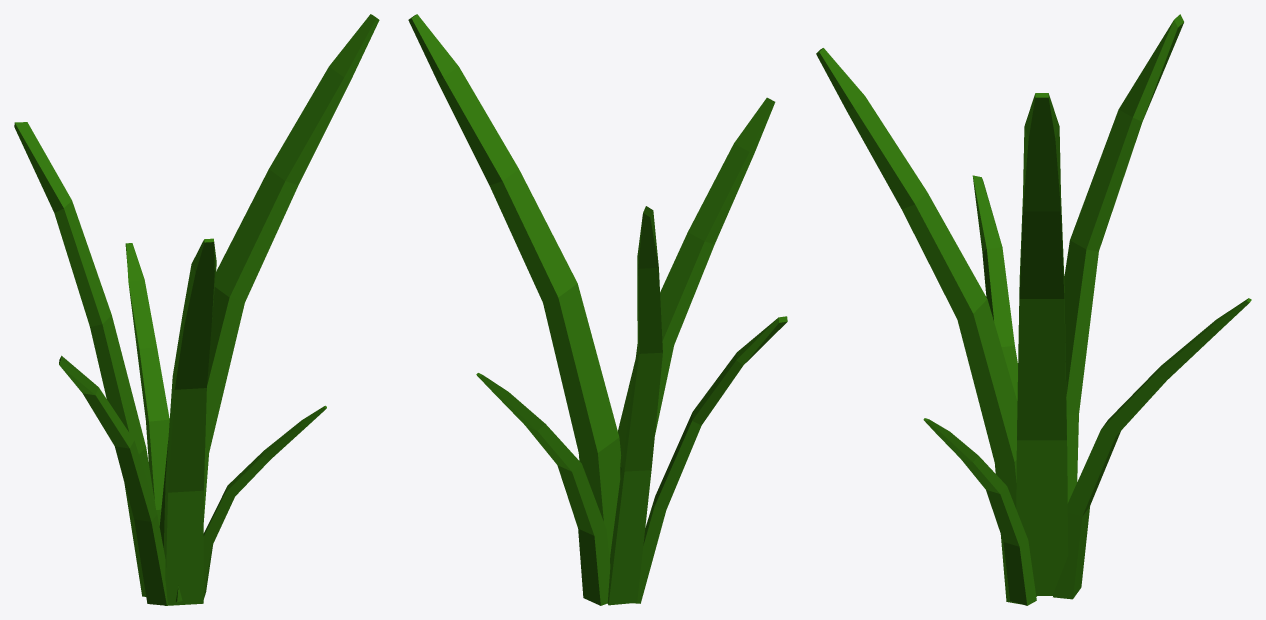
The model's file is Grass_06.fbx.
3 views of the same model, side by side, from view 1: azimuth 30°, elevation 25°; view 2: azimuth 150°, elevation 25°; view 3: azimuth 270°, elevation 25° (orthographic). The views are drawn at different scales.
Parts seen in each view (by area): view 1: Grass_06; view 2: Grass_06; view 3: Grass_06.
Boxes of the visible parts, <box> form: Grass_06: <box>14,14,379,605</box>; Grass_06: <box>408,14,787,605</box>; Grass_06: <box>816,14,1251,605</box>.
Size of the model in its own units: 1.62 by 2.37 by 1.53.
1 material, 1 textured.
